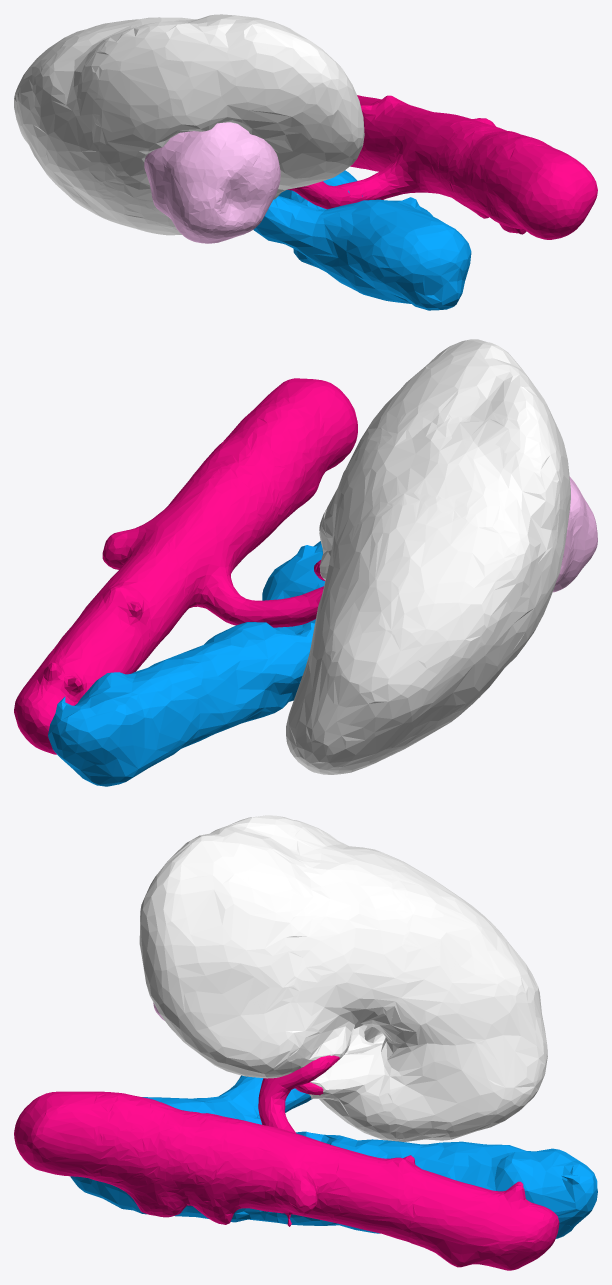
Rendered from Kind.glb.
3 views of the same model, one above another, from view 1: azimuth 30°, elevation 25°; view 2: azimuth 150°, elevation 25°; view 3: azimuth 270°, elevation 25° (orthographic). The views are drawn at different scales.
Visible parts, largest first — view 1: surface_kidney_low, surface_artery_low, surface_vein_low, surface_neoplasm_low; view 2: surface_kidney_low, surface_artery_low, surface_vein_low, surface_neoplasm_low; view 3: surface_kidney_low, surface_artery_low, surface_vein_low.
Boxes of the visible parts, x1=… form: surface_kidney_low: x1=14, y1=14, x2=364, y2=235; surface_artery_low: x1=287, y1=95, x2=597, y2=239; surface_vein_low: x1=253, y1=170, x2=471, y2=310; surface_neoplasm_low: x1=144, y1=122, x2=280, y2=243; surface_kidney_low: x1=286, y1=339, x2=570, y2=774; surface_artery_low: x1=14, y1=378, x2=357, y2=754; surface_vein_low: x1=48, y1=541, x2=324, y2=786; surface_neoplasm_low: x1=553, y1=477, x2=597, y2=592; surface_kidney_low: x1=139, y1=815, x2=547, y2=1141; surface_artery_low: x1=14, y1=1055, x2=559, y2=1270; surface_vein_low: x1=70, y1=1075, x2=597, y2=1238.
Bounding box in the file's own units: 0.1272 × 0.0899 × 0.1506.
